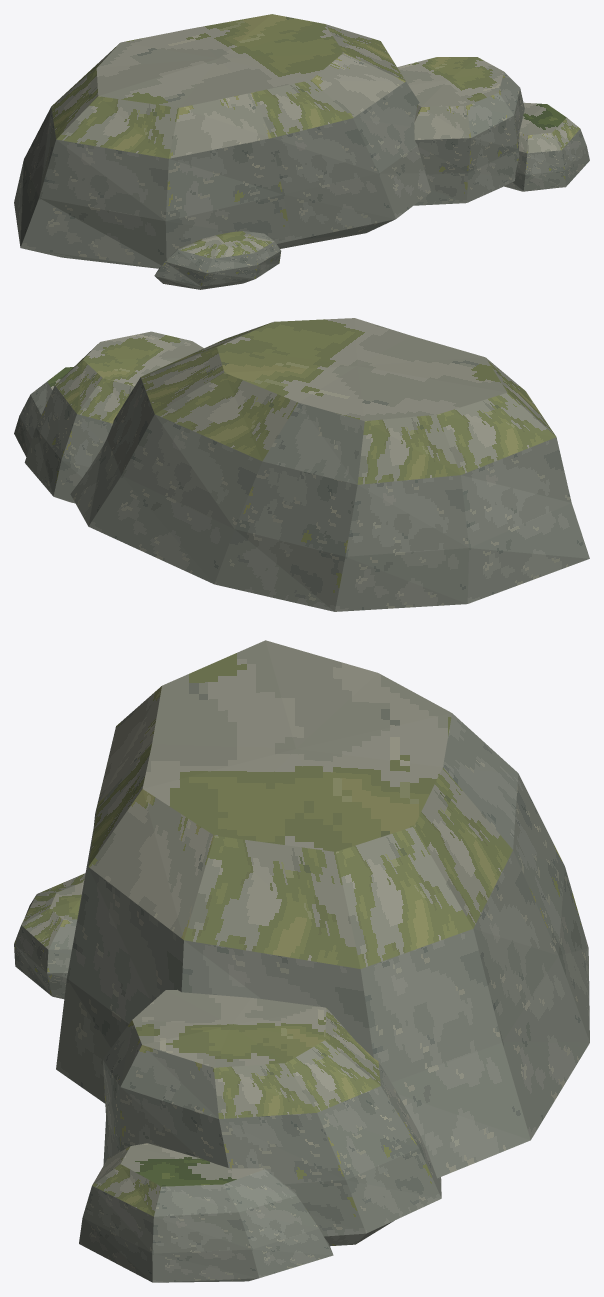
The model's file is rock_shelf.glb.
The picture shows the model from 3 angles, top to bottom: view 1: azimuth 30°, elevation 25°; view 2: azimuth 150°, elevation 25°; view 3: azimuth 270°, elevation 25°; orthographic projection. The views are drawn at different scales.
Parts seen in each view (by area): view 1: rock_shelf; view 2: rock_shelf; view 3: rock_shelf.
Part boxes in pixels (bbox=[...]): rock_shelf: bbox=[14, 14, 589, 289]; rock_shelf: bbox=[14, 318, 589, 611]; rock_shelf: bbox=[14, 640, 589, 1282].
Size of the model in its own units: 3.69 by 1.04 by 2.01.
1 material, 1 textured.
